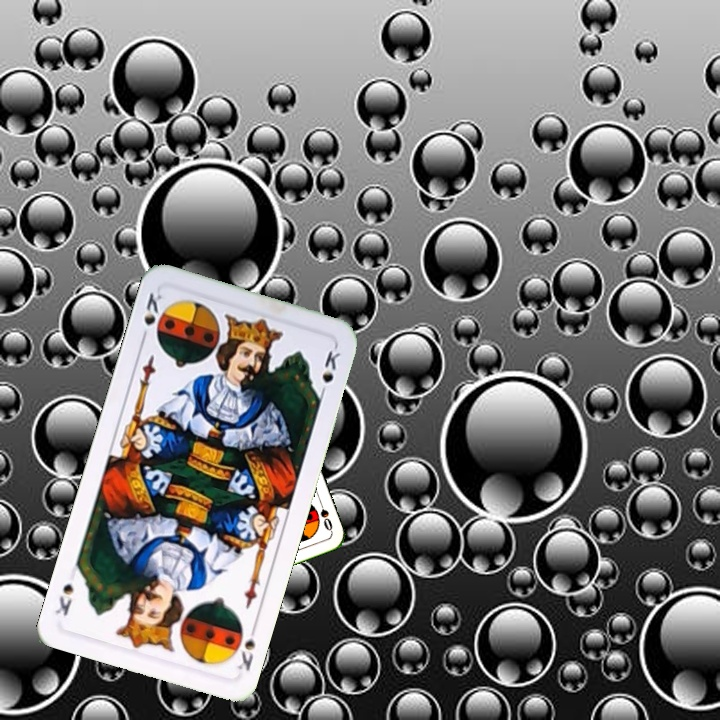SK: (137, 287, 165, 345), (233, 619, 258, 674)
SO: (314, 495, 335, 534)
